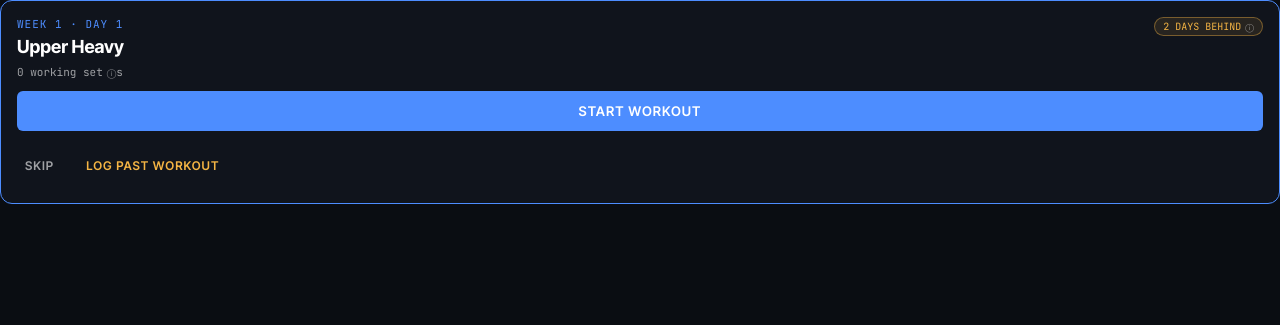
Test: <TodayCard> › behind (desktop): LOG PAST WORKOUT opens a date picker for the desktop logger
The width and height of the screenshot is (1280, 325).
Expected: the heading "Upper Heavy" is shown, x1=17 y1=36 x2=124 y2=57
What coordinates should you click on to do the following:
click the button "Log Past Workout"
I would click on:
 (153, 165)
Its box is x1=78 y1=143 x2=227 y2=187.
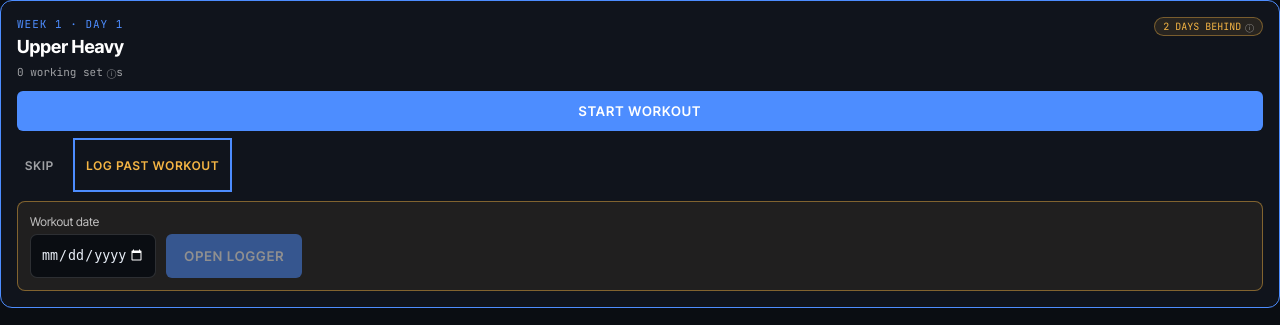
Expected: the date field labelled "Workout date" is shown, x1=30 y1=234 x2=156 y2=278
Expected: the button "Open logger" is disabled, x1=166 y1=234 x2=302 y2=278
